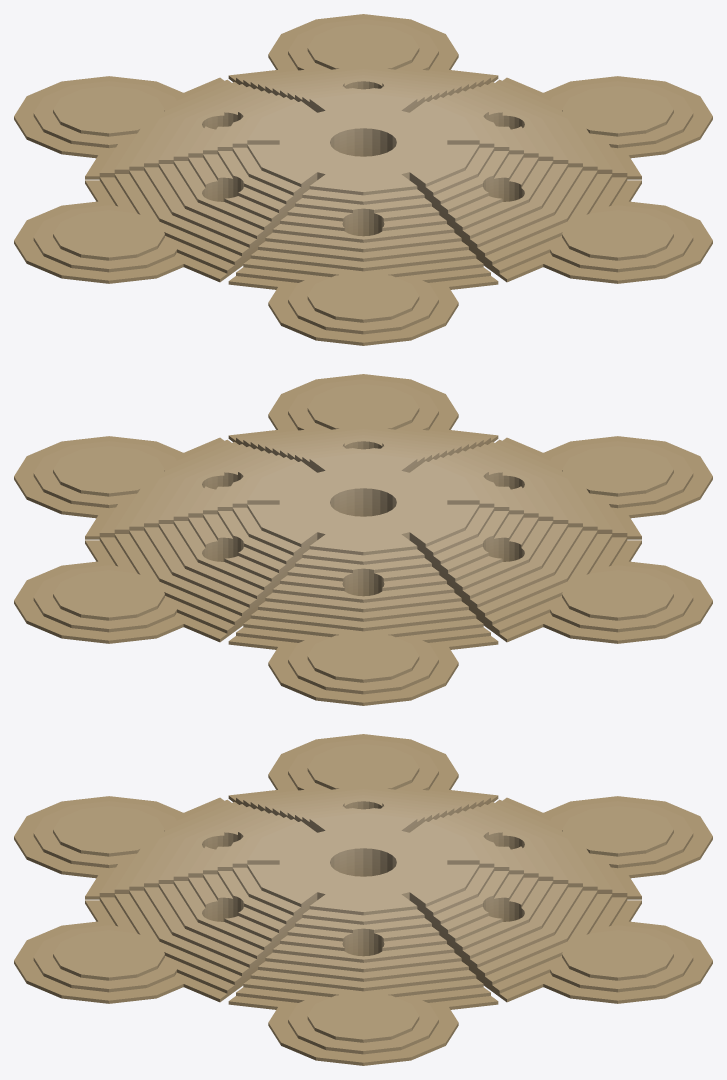
File: case-B-massing.glb
3 renders of one model, top to bottom at view 1: azimuth 30°, elevation 25°; view 2: azimuth 150°, elevation 25°; view 3: azimuth 270°, elevation 25°, orthographic.
Parts seen in each view (by area): view 1: B_floor_61, B_floor_1, B_floor_31, B_floor_331, B_floor_91, B_floor_121, B_floor_151, B_floor_181, B_floor_211, B_floor_271, B_floor_301, B_floor_241; view 2: B_floor_61, B_floor_1, B_floor_31, B_floor_331, B_floor_91, B_floor_121, B_floor_151, B_floor_181, B_floor_211, B_floor_271, B_floor_301, B_floor_241; view 3: B_floor_61, B_floor_1, B_floor_31, B_floor_331, B_floor_91, B_floor_121, B_floor_151, B_floor_181, B_floor_211, B_floor_271, B_floor_301, B_floor_241.
Part boxes in pixels (box(x1,y1,x2,y2)): B_floor_61: box(53, 24, 673, 322); B_floor_1: box(14, 14, 712, 345); B_floor_31: box(33, 19, 693, 334); B_floor_331: box(247, 93, 479, 195); B_floor_91: box(129, 69, 597, 271); B_floor_121: box(144, 72, 582, 261); B_floor_151: box(158, 75, 568, 252); B_floor_181: box(173, 78, 553, 242); B_floor_211: box(188, 83, 538, 231); B_floor_271: box(217, 88, 509, 212); B_floor_301: box(232, 90, 494, 204); B_floor_241: box(203, 86, 523, 221); B_floor_61: box(53, 384, 673, 682); B_floor_1: box(14, 374, 712, 705); B_floor_31: box(33, 379, 693, 694); B_floor_331: box(247, 453, 479, 555); B_floor_91: box(129, 429, 597, 631); B_floor_121: box(144, 432, 582, 621); B_floor_151: box(158, 435, 568, 612); B_floor_181: box(173, 438, 553, 602); B_floor_211: box(188, 443, 538, 591); B_floor_271: box(217, 448, 509, 572); B_floor_301: box(232, 450, 494, 564); B_floor_241: box(203, 446, 523, 581); B_floor_61: box(53, 744, 673, 1042); B_floor_1: box(14, 734, 712, 1065); B_floor_31: box(33, 739, 693, 1054); B_floor_331: box(247, 813, 479, 915); B_floor_91: box(129, 789, 597, 991); B_floor_121: box(144, 792, 582, 981); B_floor_151: box(158, 795, 568, 972); B_floor_181: box(173, 798, 553, 962); B_floor_211: box(188, 803, 538, 951); B_floor_271: box(217, 808, 509, 932); B_floor_301: box(232, 810, 494, 924); B_floor_241: box(203, 806, 523, 941).
Size of the model in its own units: 27662 by 1536 by 24862.
